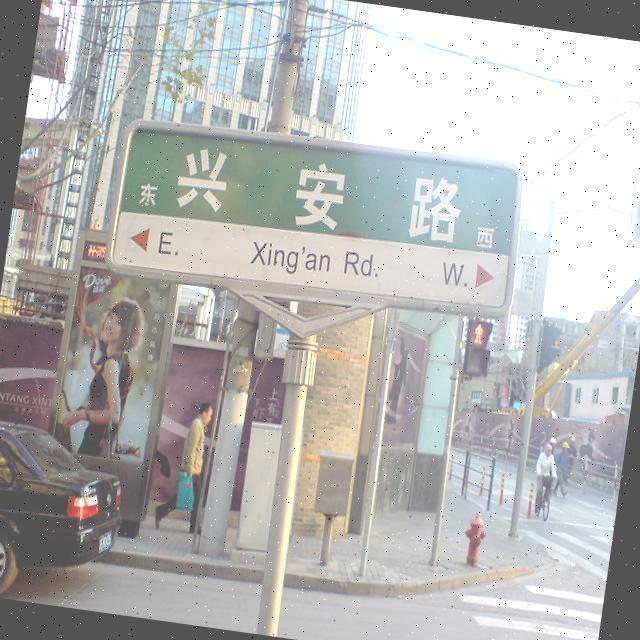fire_hydrant: (457, 509, 489, 569)
